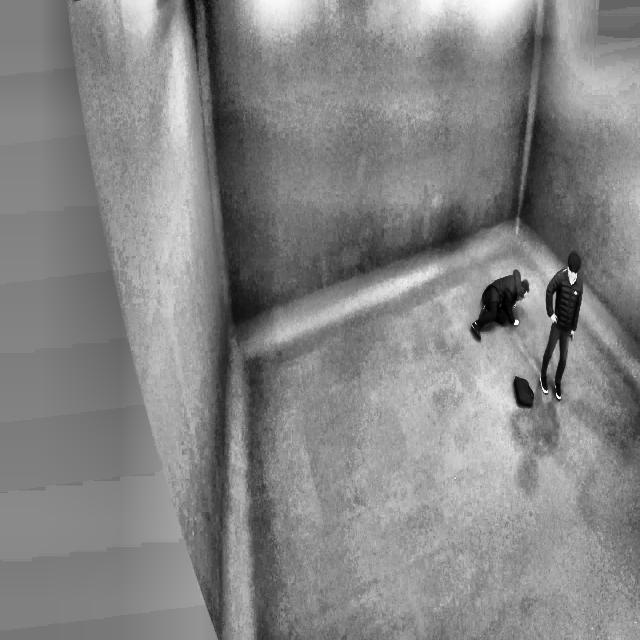assult: (466, 240, 590, 396), (475, 265, 533, 345)
